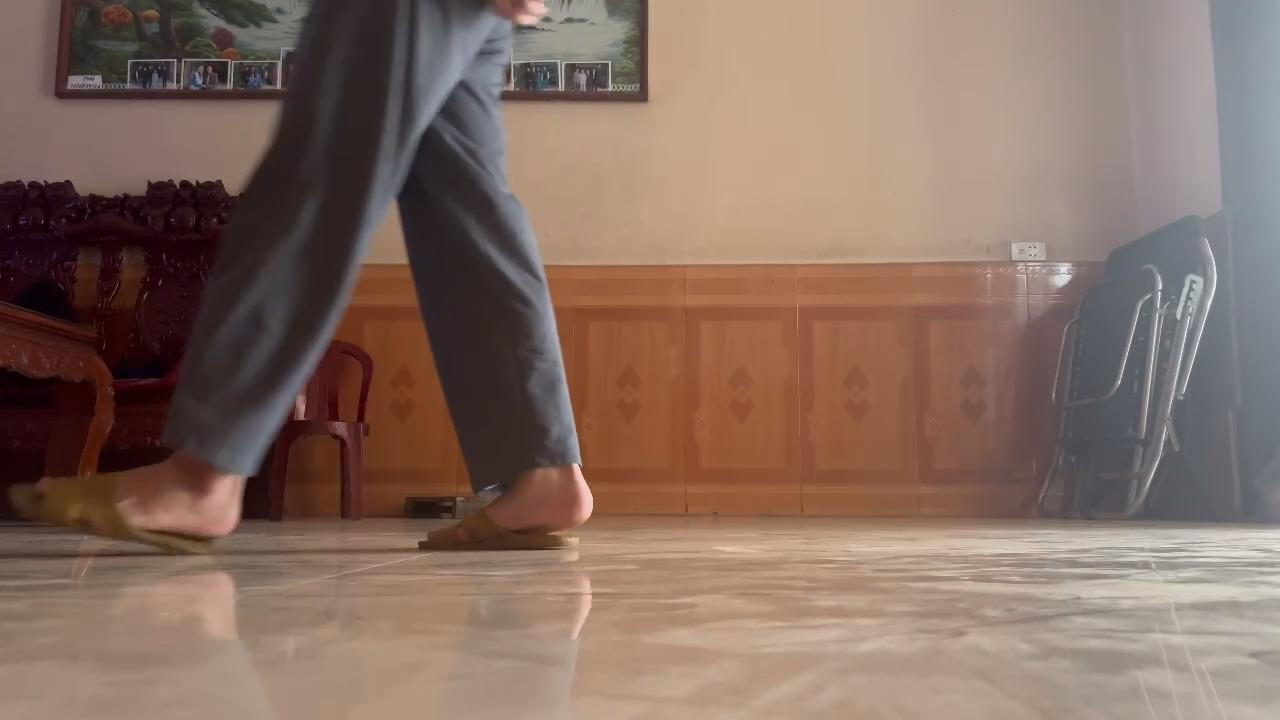no-boot: (0, 465, 256, 562), (410, 476, 609, 559)
